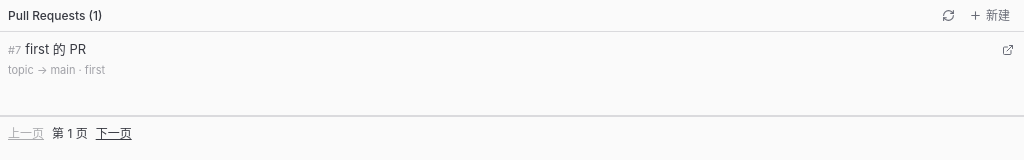
Test: PR 页码控制可读下一页，局部更新不会把过期页混成完整列表
This screenshot has width=1024, height=160.
Expected: the button "first 的 PR" is shown, 25,40 -> 996,60
Click the button "下一页": (114, 134) 96,124 -> 132,142
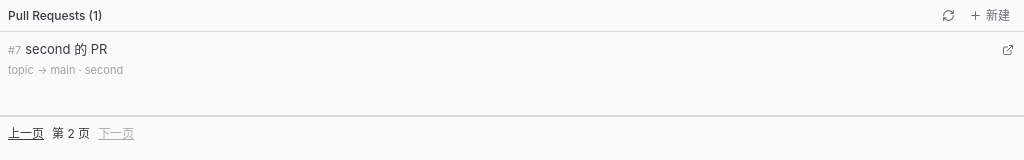
Result: the button "second 的 PR" is shown at 25,40 -> 996,60
Result: the button "first 的 PR" is gone
